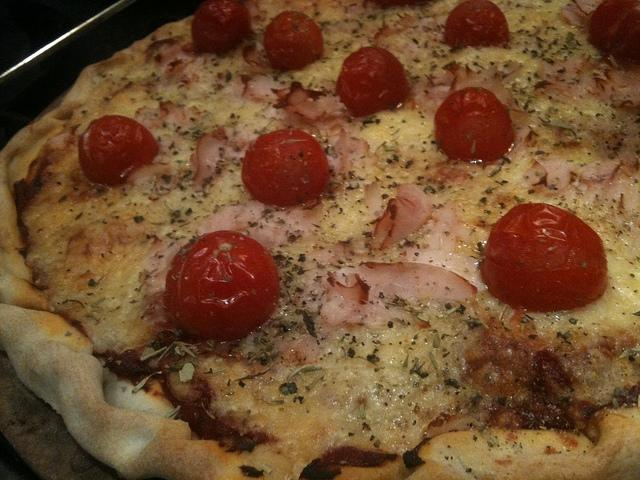tomato: (478, 202, 608, 313), (166, 230, 280, 342), (242, 128, 329, 206), (433, 87, 513, 163), (78, 114, 160, 188), (334, 46, 409, 118), (263, 10, 325, 73), (190, 0, 250, 53), (444, 4, 510, 48), (588, 0, 640, 54)
